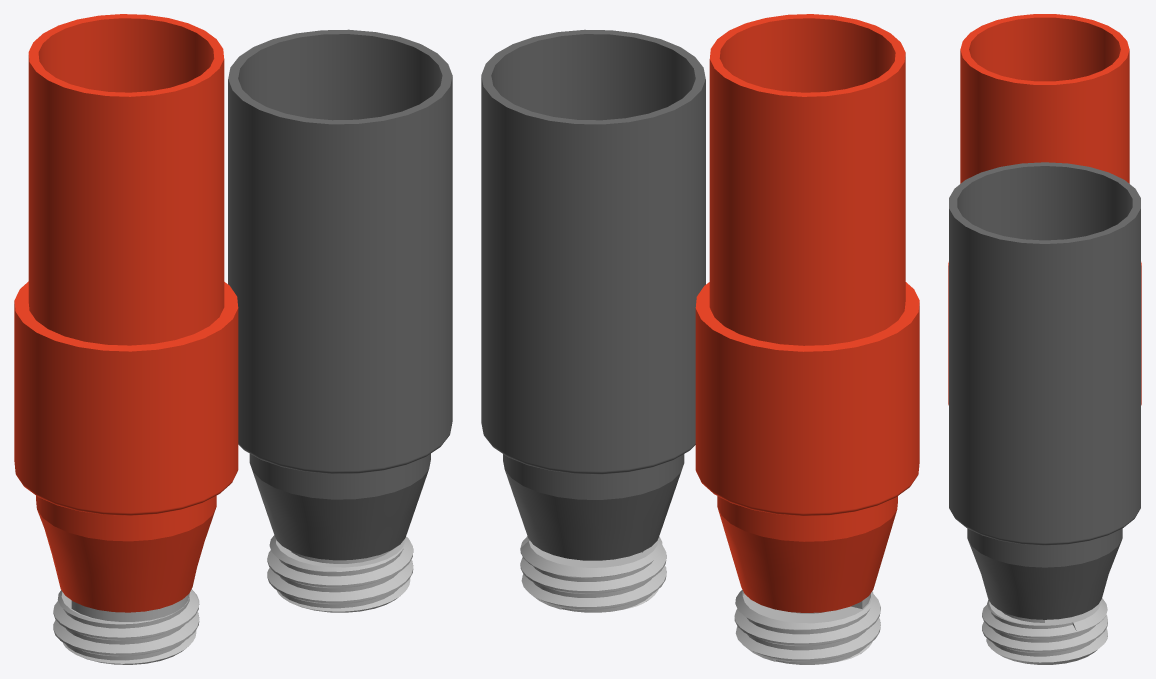
3 renders of one model, left to right at view 1: azimuth 30°, elevation 25°; view 2: azimuth 150°, elevation 25°; view 3: azimuth 270°, elevation 25°, orthographic. The views are drawn at different scales.
Visible parts, largest first — view 1: =>[0:1:1:12], =>[0:1:1:7], AS150_M_head_anti spark:1, AS150_F_head:1; view 2: =>[0:1:1:12], =>[0:1:1:7], AS150_M_head_anti spark:1, AS150_F_head:1; view 3: =>[0:1:1:7], =>[0:1:1:12], AS150_M_head_anti spark:1.
Part boxes in pixels (bbox=[...]): =>[0:1:1:12]: bbox=[14, 14, 238, 612]; =>[0:1:1:7]: bbox=[228, 29, 452, 560]; AS150_M_head_anti spark:1: bbox=[267, 535, 413, 612]; AS150_F_head:1: bbox=[53, 589, 199, 664]; =>[0:1:1:12]: bbox=[695, 14, 919, 612]; =>[0:1:1:7]: bbox=[481, 29, 705, 560]; AS150_M_head_anti spark:1: bbox=[520, 536, 666, 612]; AS150_F_head:1: bbox=[734, 590, 880, 664]; =>[0:1:1:7]: bbox=[949, 162, 1140, 619]; =>[0:1:1:12]: bbox=[948, 14, 1141, 405]; AS150_M_head_anti spark:1: bbox=[982, 598, 1107, 664].
Size of the model in its own units: 0.0283 by 0.0386 by 0.0135.
